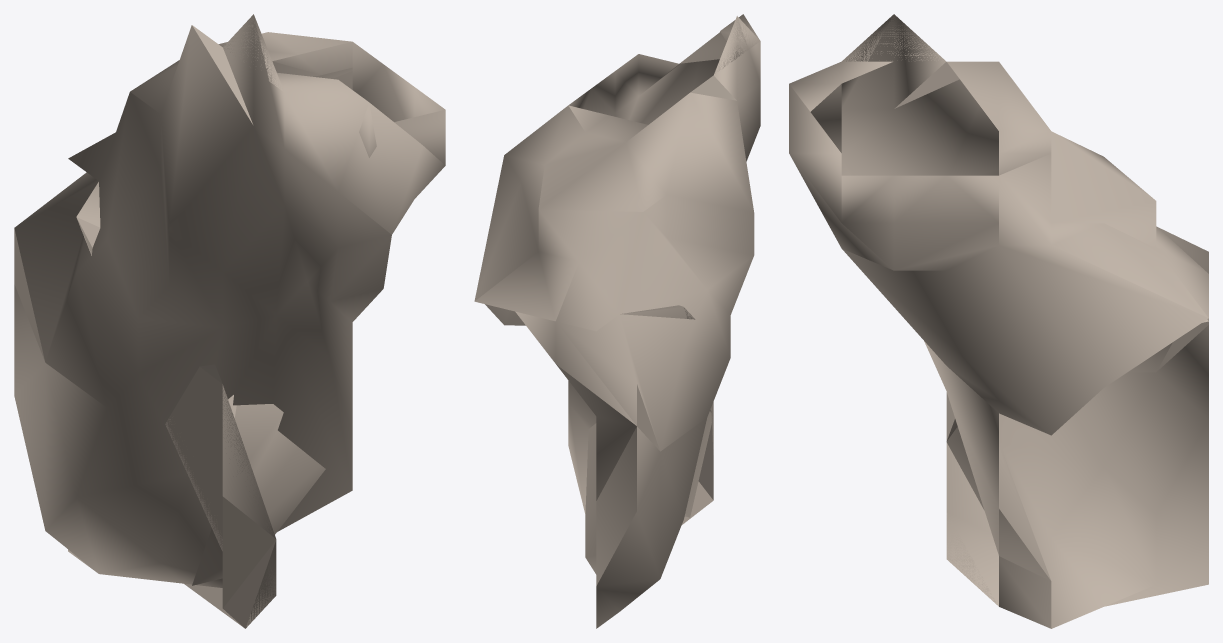
The model's file is m_jet_8999d2ec.glb.
3 renders of one model, left to right at view 1: azimuth 30°, elevation 25°; view 2: azimuth 150°, elevation 25°; view 3: azimuth 270°, elevation 25°, orthographic. The views are drawn at different scales.
Visible parts, largest first — view 1: mesh; view 2: mesh; view 3: mesh.
Boxes of the visible parts, x1,y1,x2,y2 form: mesh: [14, 14, 445, 628]; mesh: [474, 14, 760, 628]; mesh: [789, 14, 1208, 628].
Size of the model in its own units: 5 by 12 by 8.
